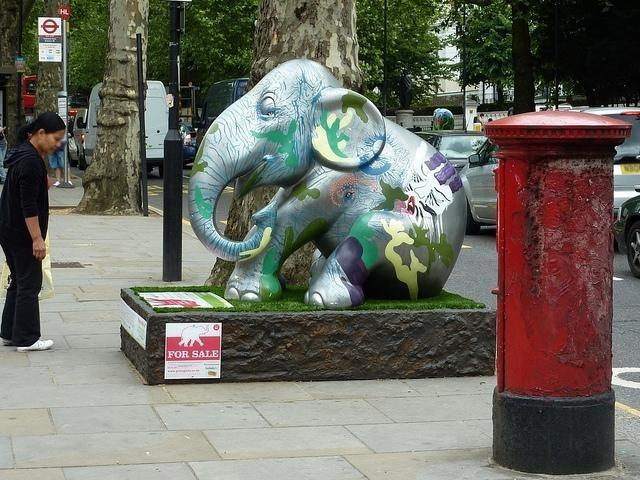car: (457, 106, 640, 237), (412, 129, 485, 172), (617, 185, 640, 280), (70, 109, 87, 166), (180, 122, 198, 162)
truck: (74, 80, 174, 177), (194, 78, 251, 156)
